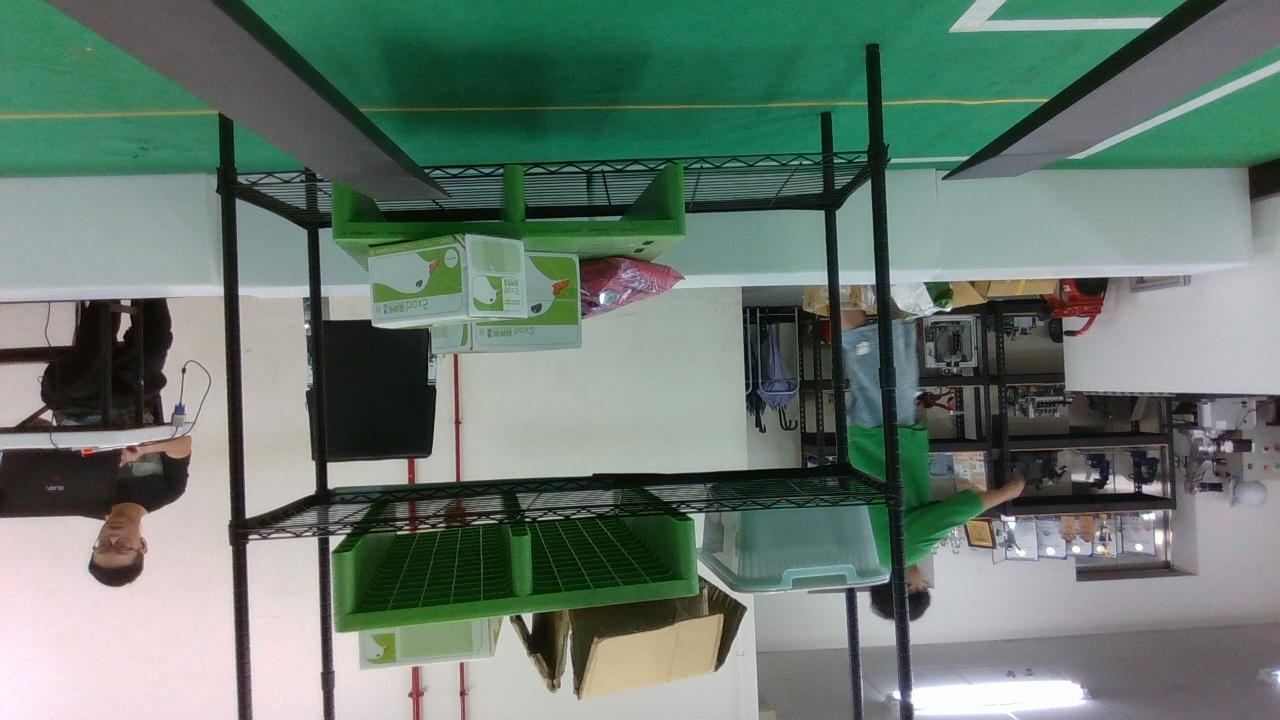Pallet: (323, 519, 702, 633), (331, 164, 691, 241)
